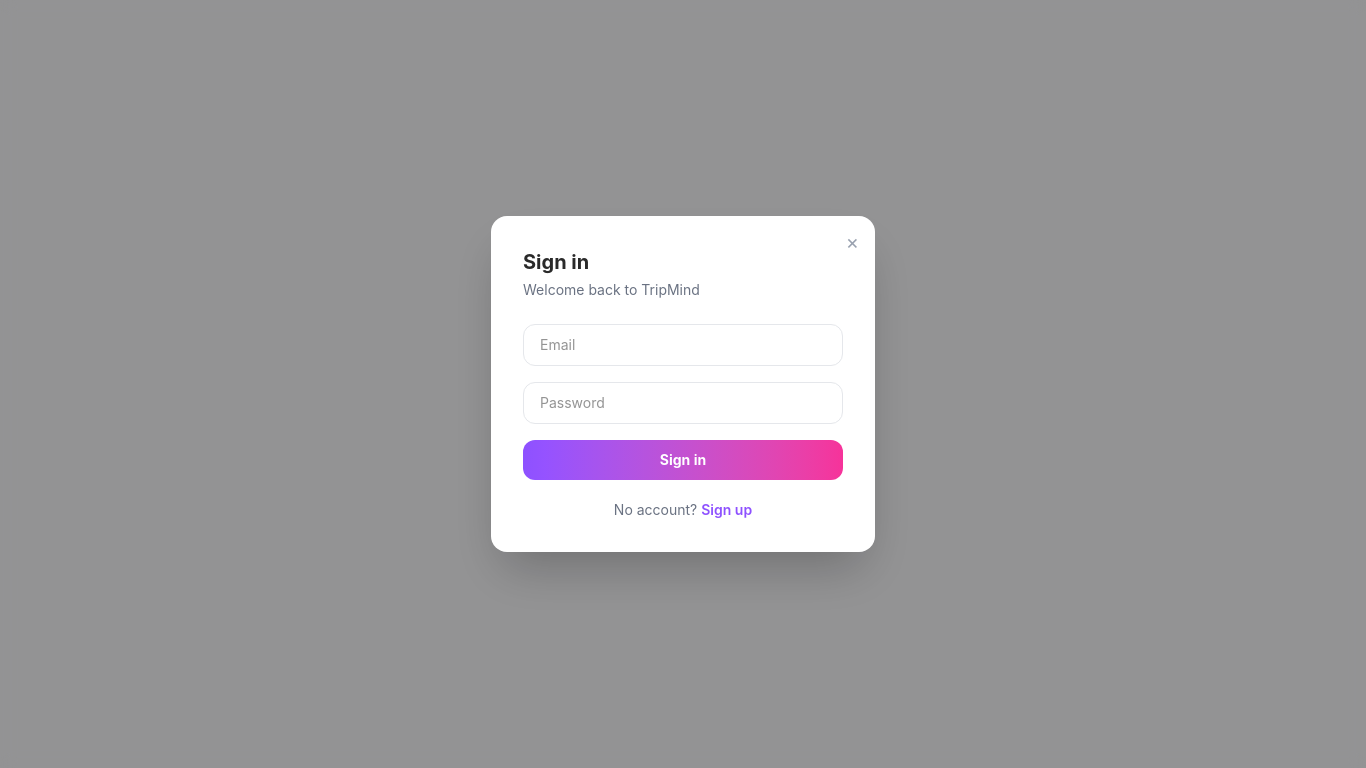
Test: AuthModal — mode toggle › switches back to sign in mode
The image size is (1366, 768).
Click the button "Sign up".
click(727, 510)  # box [701,500,752,520]
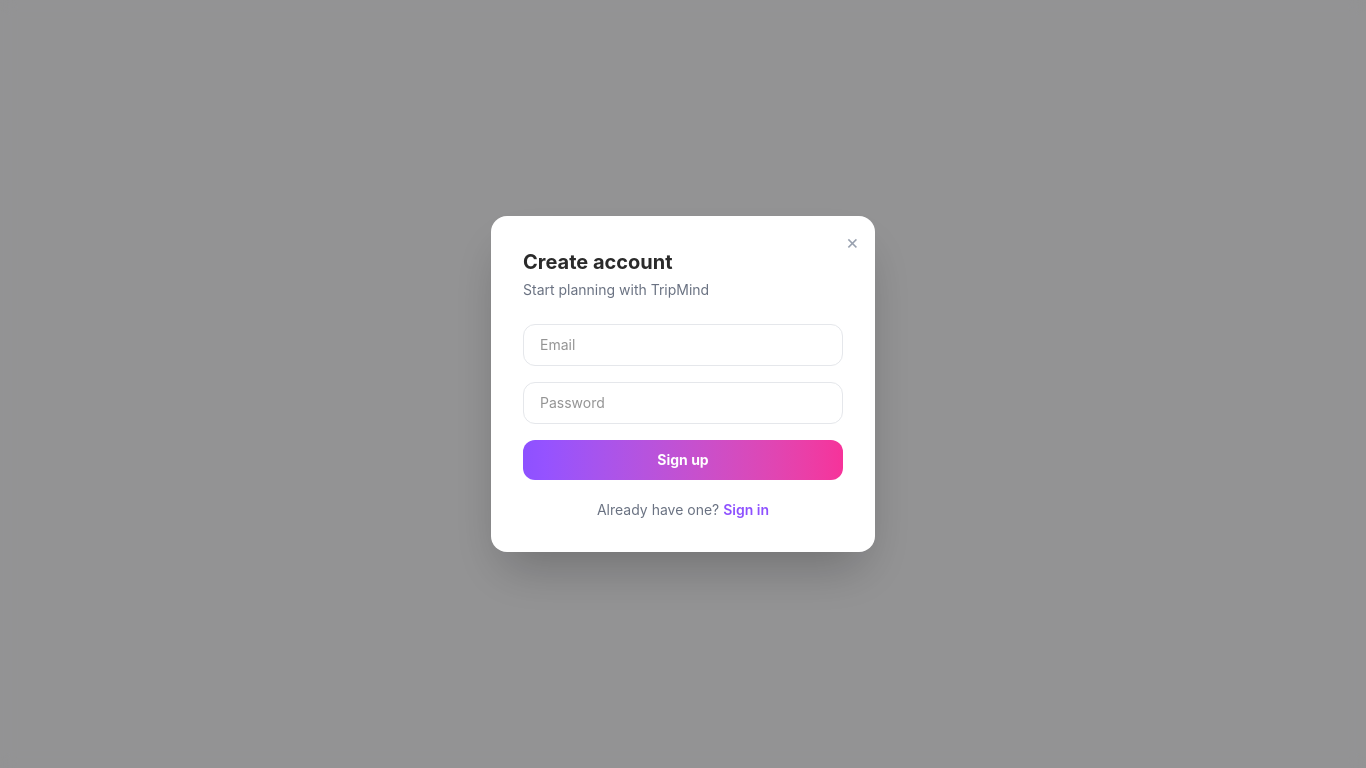
Click the button "Sign in".
click(746, 510)  # box [723,500,769,520]
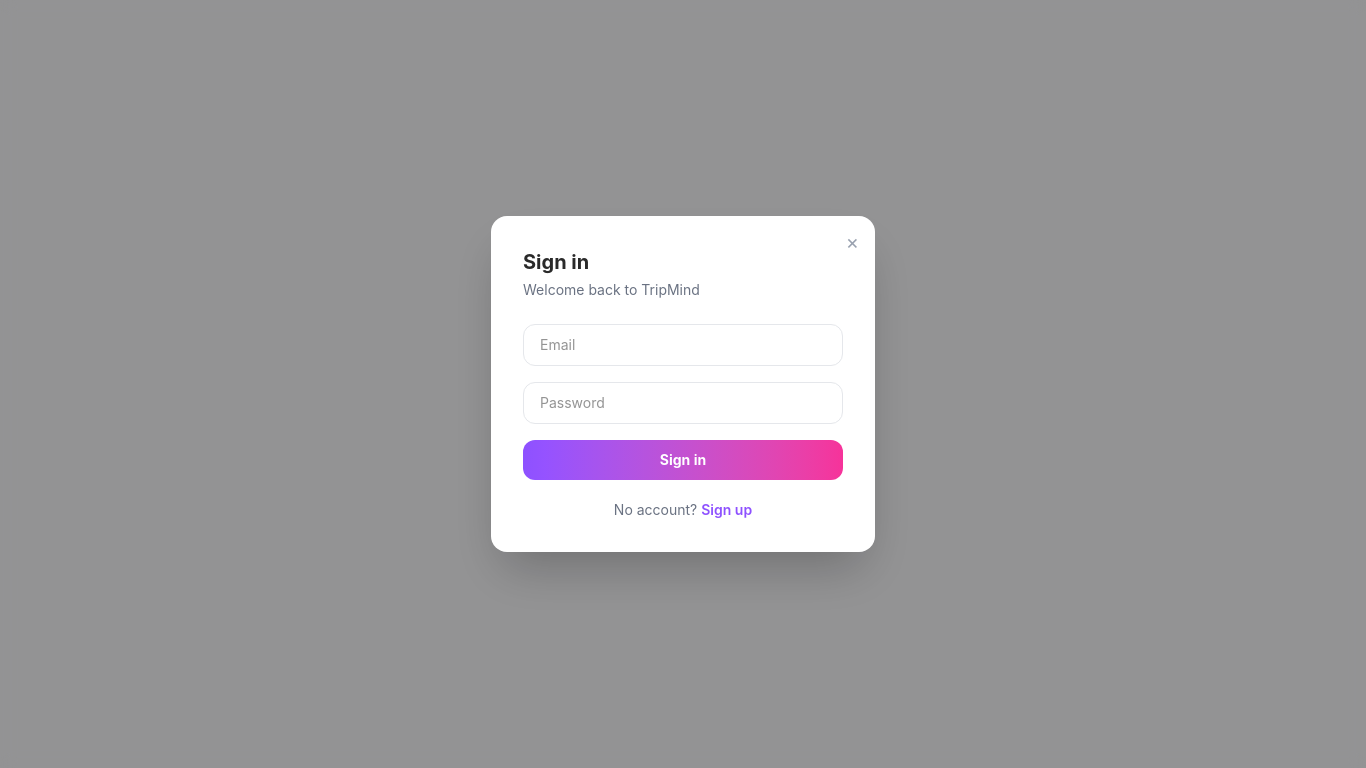
expect the text "Welcome back to TripMind" is shown: met, box [523,281,700,298]
